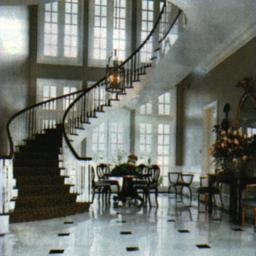Escaleras: (124, 3, 249, 112), (5, 118, 90, 215), (58, 63, 125, 118)
